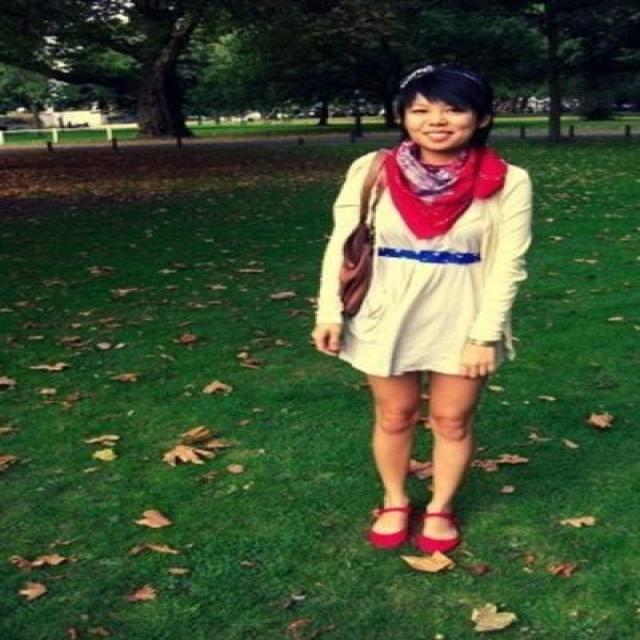bag: (339, 218, 402, 319)
dress: (312, 152, 530, 376)
shoe: (370, 508, 456, 556)
